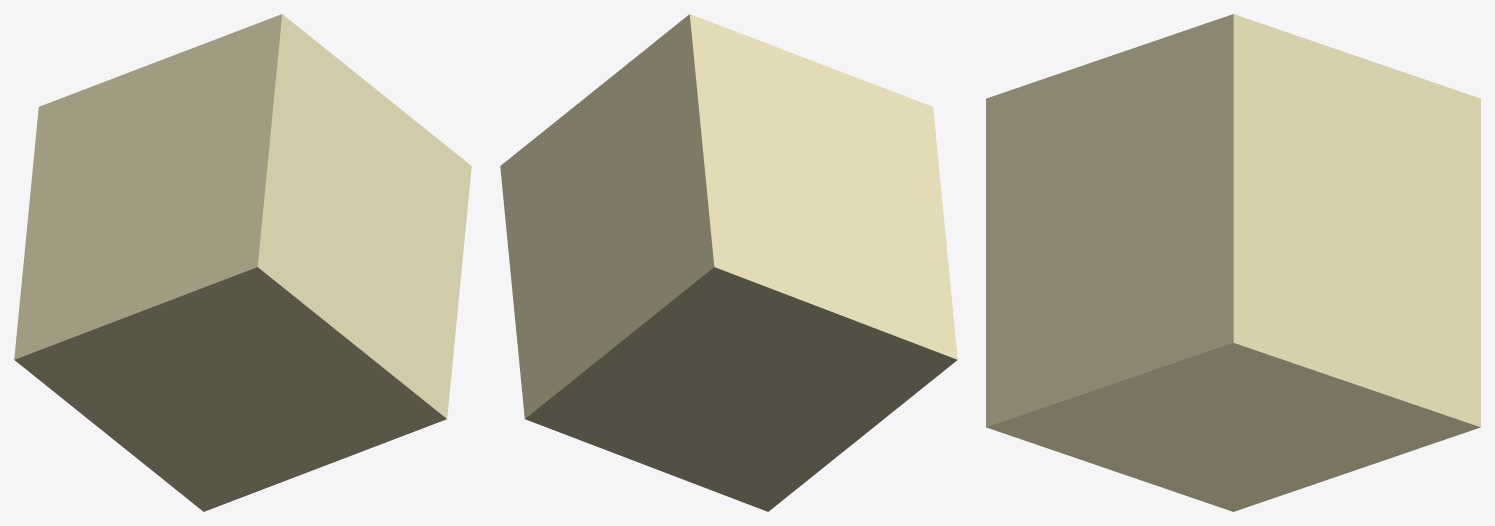
The model's file is pickup.fbx.
The picture shows the model from 3 angles, left to right: view 1: azimuth 30°, elevation 25°; view 2: azimuth 150°, elevation 25°; view 3: azimuth 270°, elevation 25°; orthographic projection. The views are drawn at different scales.
Parts seen in each view (by area): view 1: Cube; view 2: Cube; view 3: Cube.
Boxes of the visible parts, x1=… form: Cube: x1=14, y1=14, x2=471, y2=511; Cube: x1=500, y1=14, x2=957, y2=511; Cube: x1=986, y1=14, x2=1480, y2=511.
Size of the model in its own units: 341 by 341 by 283.
